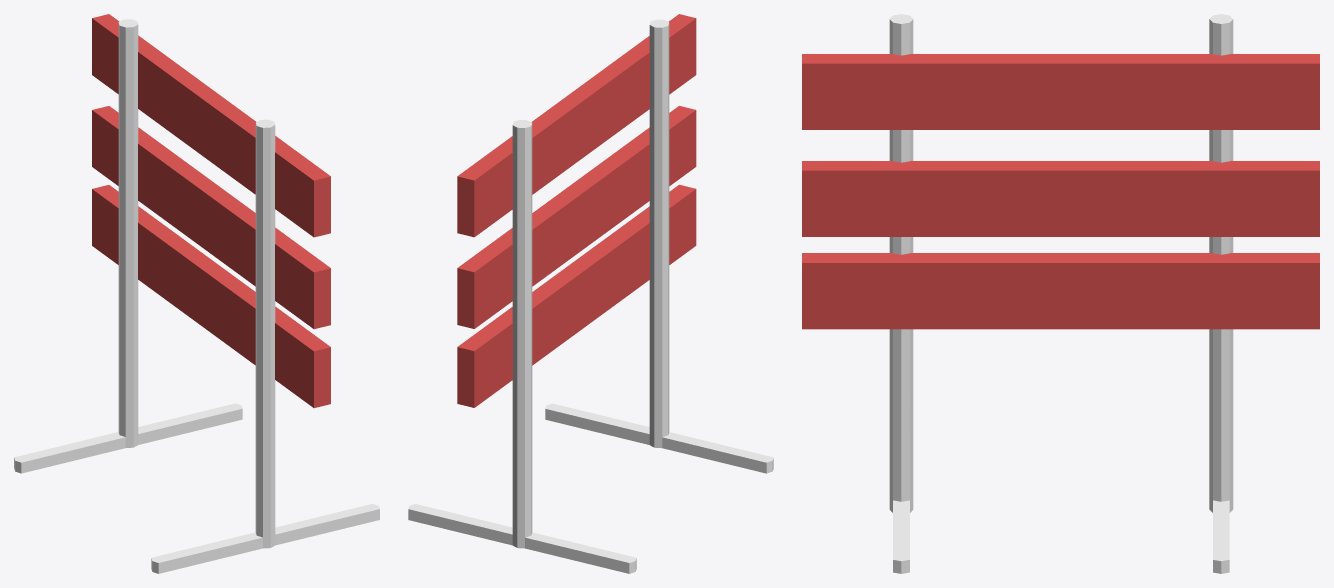
Rendered from Barrier 1.4.fbx.
The picture shows the model from 3 angles, left to right: view 1: azimuth 30°, elevation 25°; view 2: azimuth 150°, elevation 25°; view 3: azimuth 270°, elevation 25°; orthographic projection. The views are drawn at different scales.
Parts seen in each view (by area): view 1: Barrier_4.001; view 2: Barrier_4.001; view 3: Barrier_4.001.
Part boxes in pixels (<box>): Barrier_4.001: <box>14,14,379,573</box>; Barrier_4.001: <box>408,14,773,573</box>; Barrier_4.001: <box>802,14,1319,573</box>.
Size of the model in its own units: 130 by 231 by 221.
